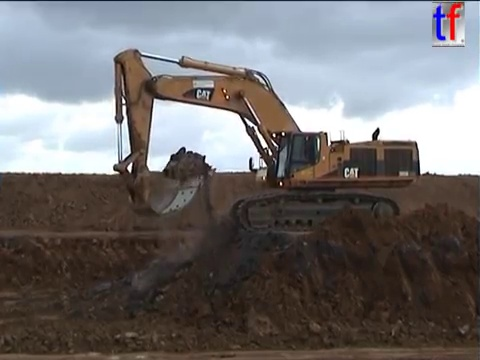excavator: (108, 45, 424, 234)
